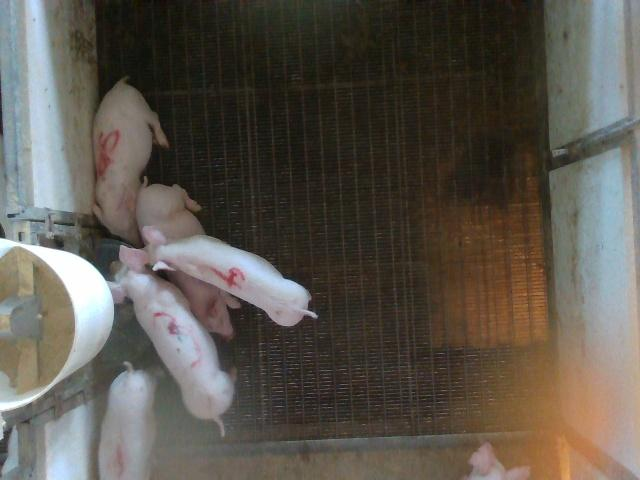pig-1: (99, 362, 155, 479)
pig-3: (109, 246, 234, 434)
pig-4: (144, 226, 318, 326)
pig-5: (92, 78, 169, 246)
